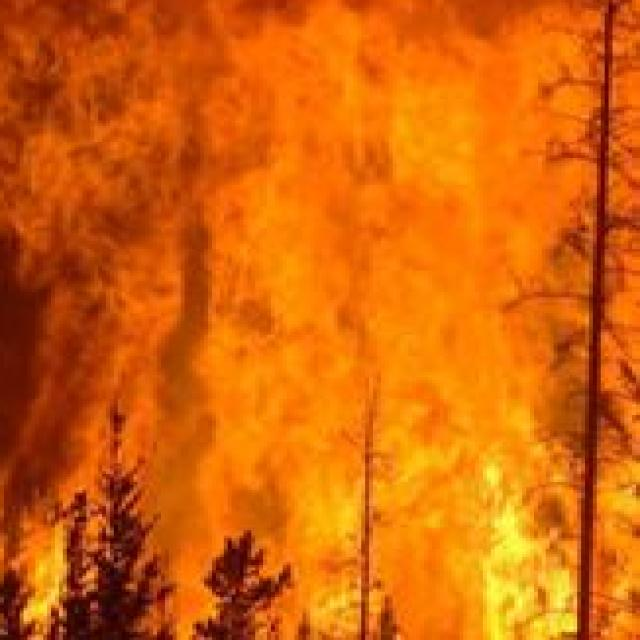fire: (2, 2, 640, 640)
